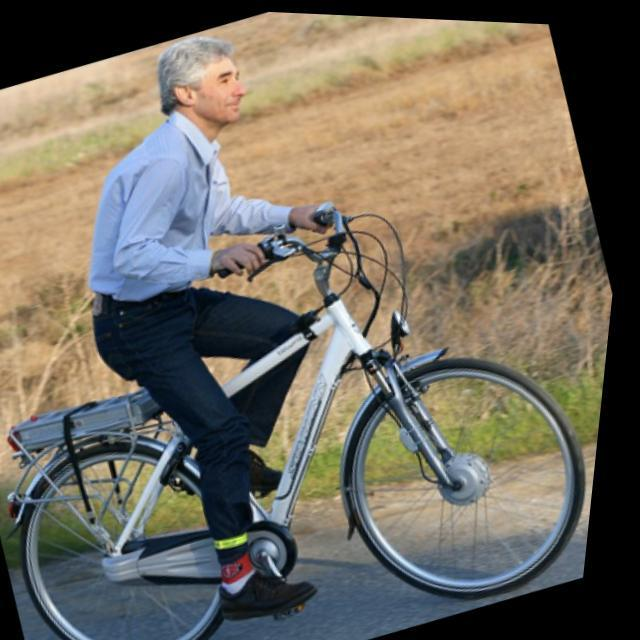Nonhelmet: (155, 30, 251, 128)
